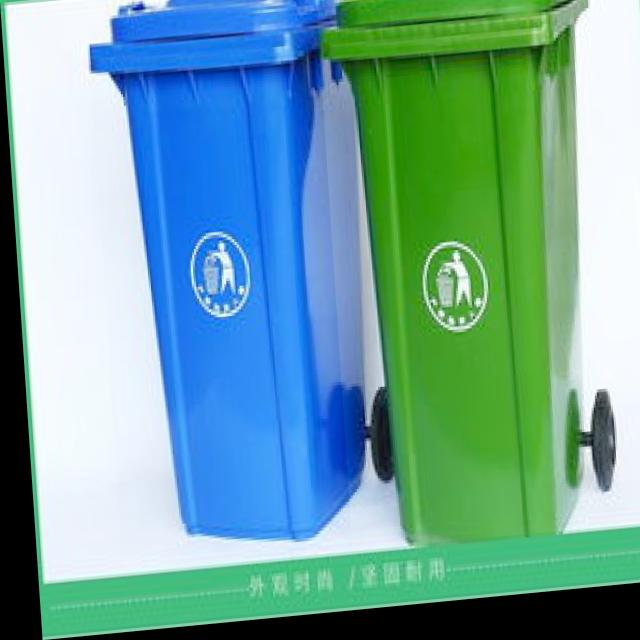garbage_bin: (314, 0, 615, 557), (84, 0, 376, 561)
